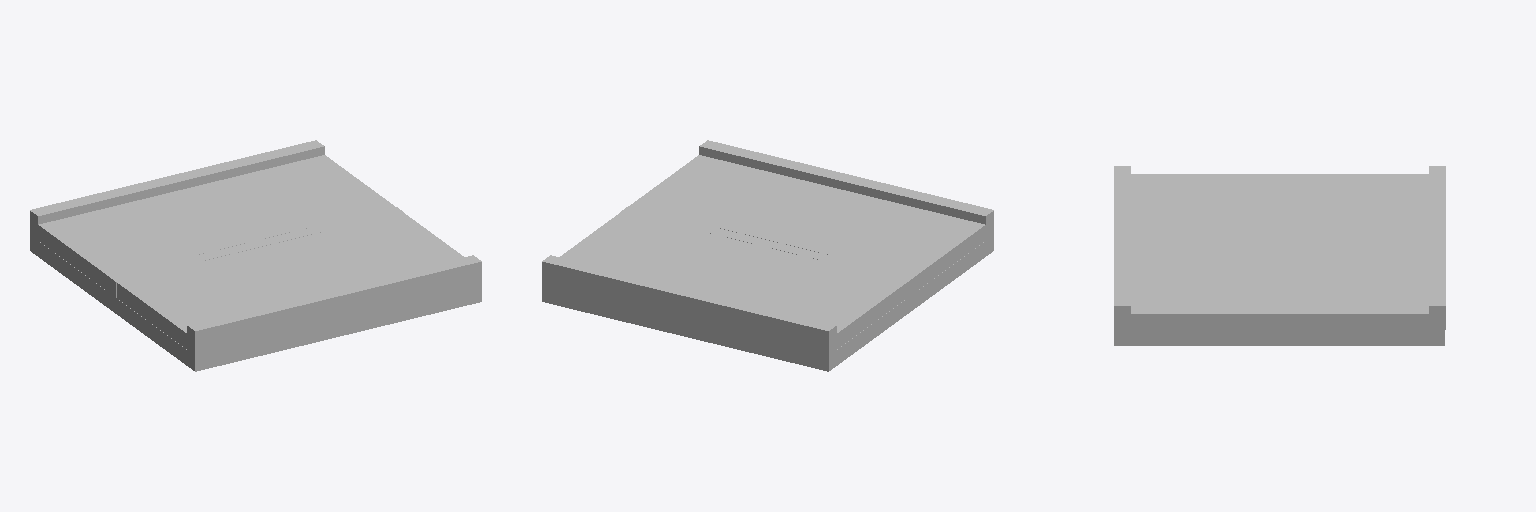
Rendered from road1.obj.
3 views of the same model, side by side, from view 1: azimuth 30°, elevation 25°; view 2: azimuth 150°, elevation 25°; view 3: azimuth 270°, elevation 25° (orthographic).
Visible parts, largest first — view 1: Cube.008; view 2: Cube.008; view 3: Cube.008.
Part boxes in pixels (left/top/right/bottom): Cube.008: left=30, top=140, right=481, bottom=371; Cube.008: left=542, top=140, right=993, bottom=371; Cube.008: left=1114, top=166, right=1445, bottom=345.
Bounding box in the file's own units: 2.01 × 0.2705 × 2.